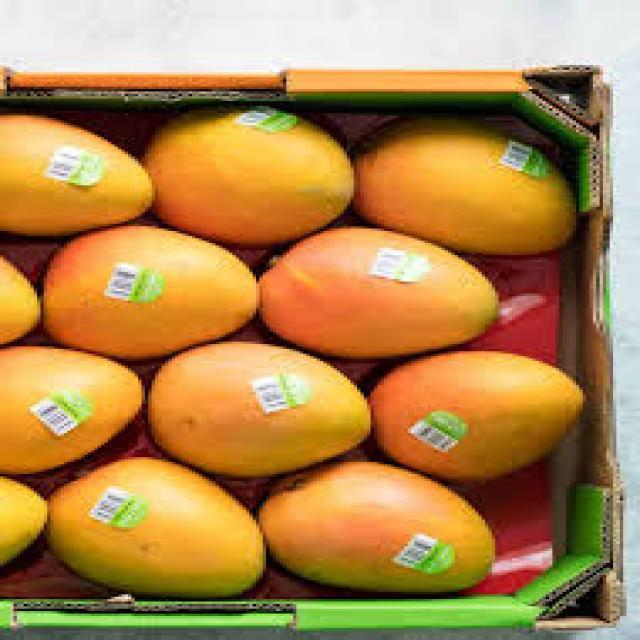Mango: (352, 117, 575, 258), (266, 461, 500, 595), (255, 232, 498, 350), (61, 456, 262, 595), (150, 344, 372, 468), (376, 356, 592, 480), (42, 225, 254, 348), (146, 112, 348, 238), (6, 348, 138, 472), (2, 112, 142, 226)
